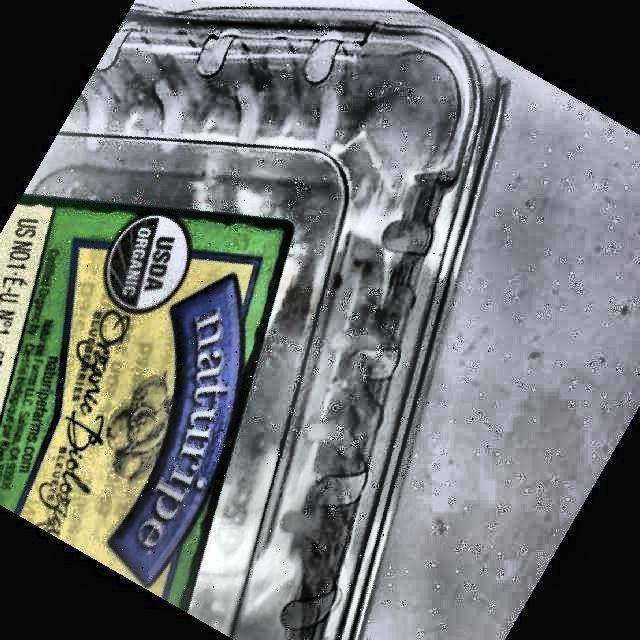plastic: (0, 2, 501, 640)
